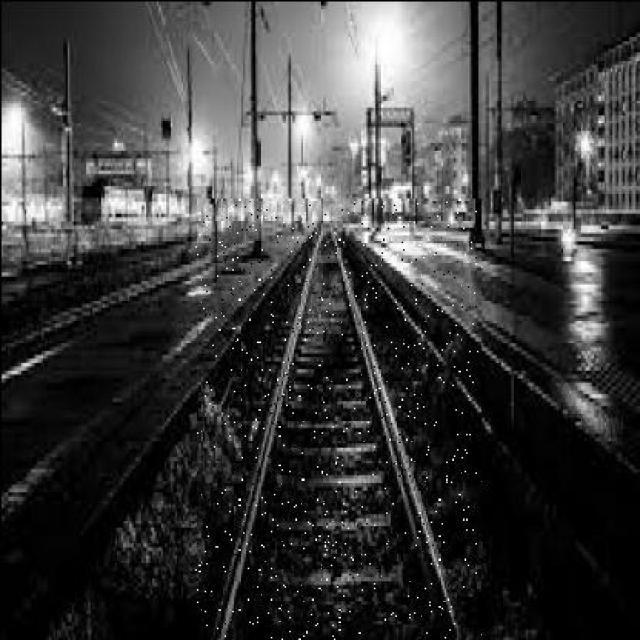rail: (194, 198, 479, 638)
